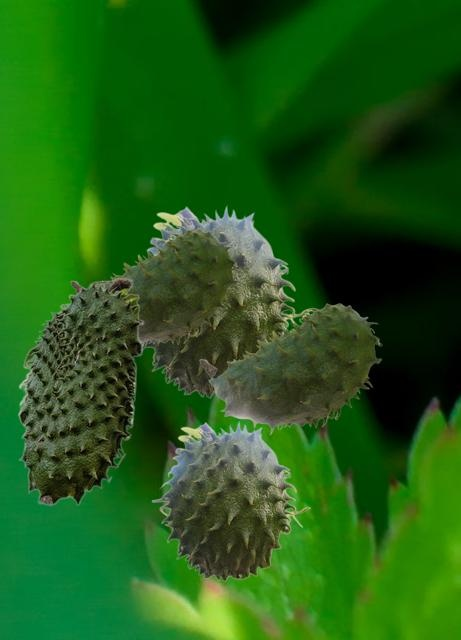guyabano: (144, 204, 311, 398), (17, 277, 143, 505), (151, 420, 310, 581), (199, 303, 381, 434), (70, 229, 238, 347)
